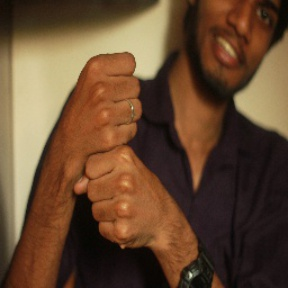G: (52, 45, 169, 259)
